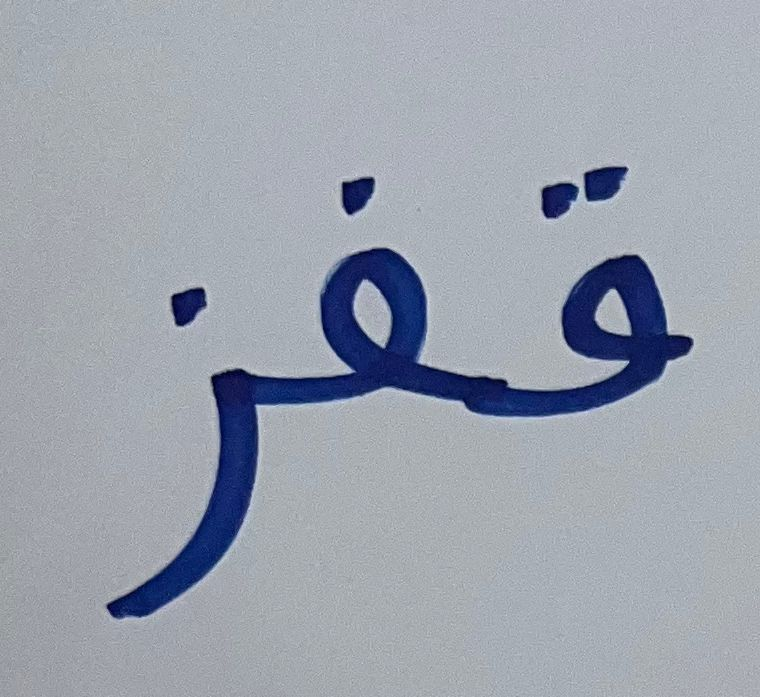reh: (479, 149, 710, 443), (301, 154, 471, 425)
sad: (83, 272, 287, 630)
